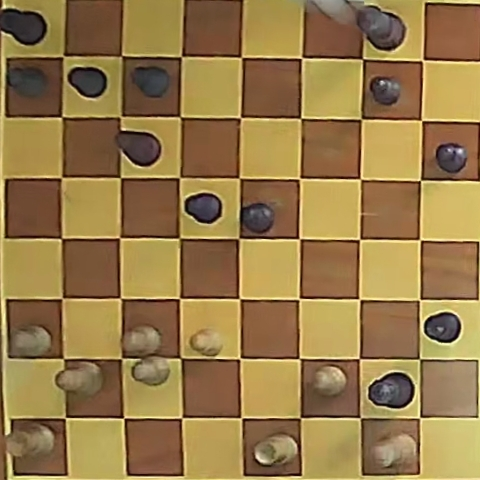black-king: (357, 6, 405, 50)
black-knight: (115, 131, 160, 166)
black-pawn: (7, 66, 48, 98), (68, 66, 108, 98), (131, 66, 170, 98), (185, 193, 222, 224), (242, 203, 275, 233), (436, 143, 468, 173), (370, 77, 401, 105)
black-queen: (368, 372, 413, 408)
black-rook: (0, 8, 47, 47), (424, 312, 461, 344)
white-bishop: (56, 362, 103, 396)
white-king: (370, 433, 416, 469)
white-pawn: (11, 325, 52, 357), (122, 325, 162, 355), (132, 355, 170, 385), (313, 365, 347, 396), (190, 328, 223, 356)
white-rook: (6, 422, 56, 459), (253, 433, 297, 466)
